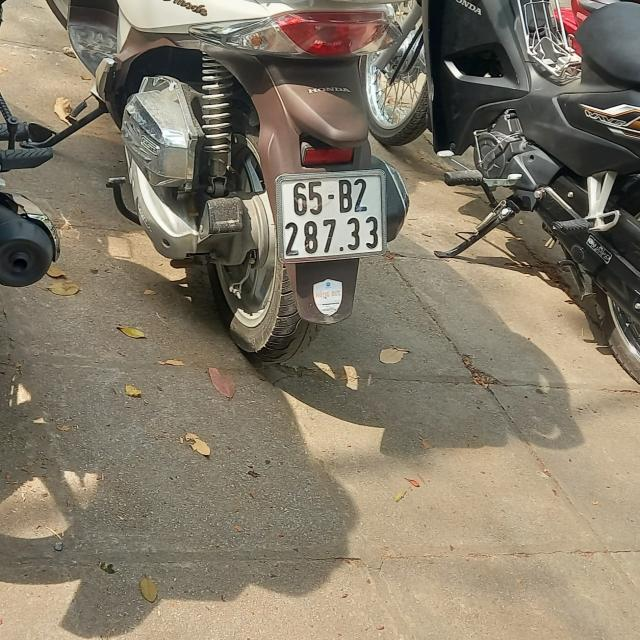2: (354, 178, 369, 215), (285, 222, 298, 256)
3: (366, 216, 378, 249), (348, 218, 360, 249)
5: (308, 181, 324, 215)
6: (294, 182, 308, 217)
7: (322, 218, 336, 252)
8: (304, 220, 318, 254)
B: (338, 180, 353, 213)
